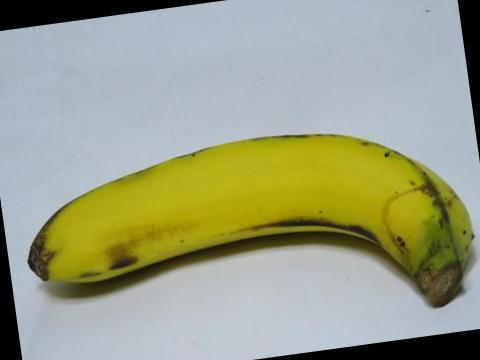freshripe: (18, 131, 479, 322)
